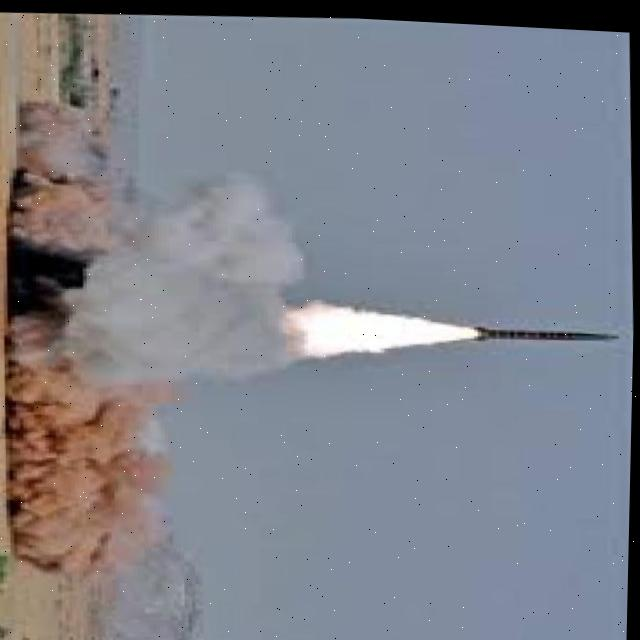missile: (466, 304, 626, 349)
